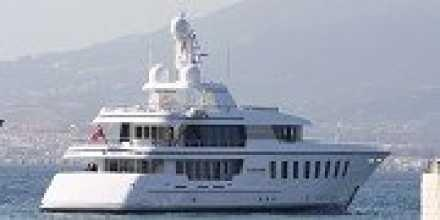yacht: (38, 70, 396, 212)
